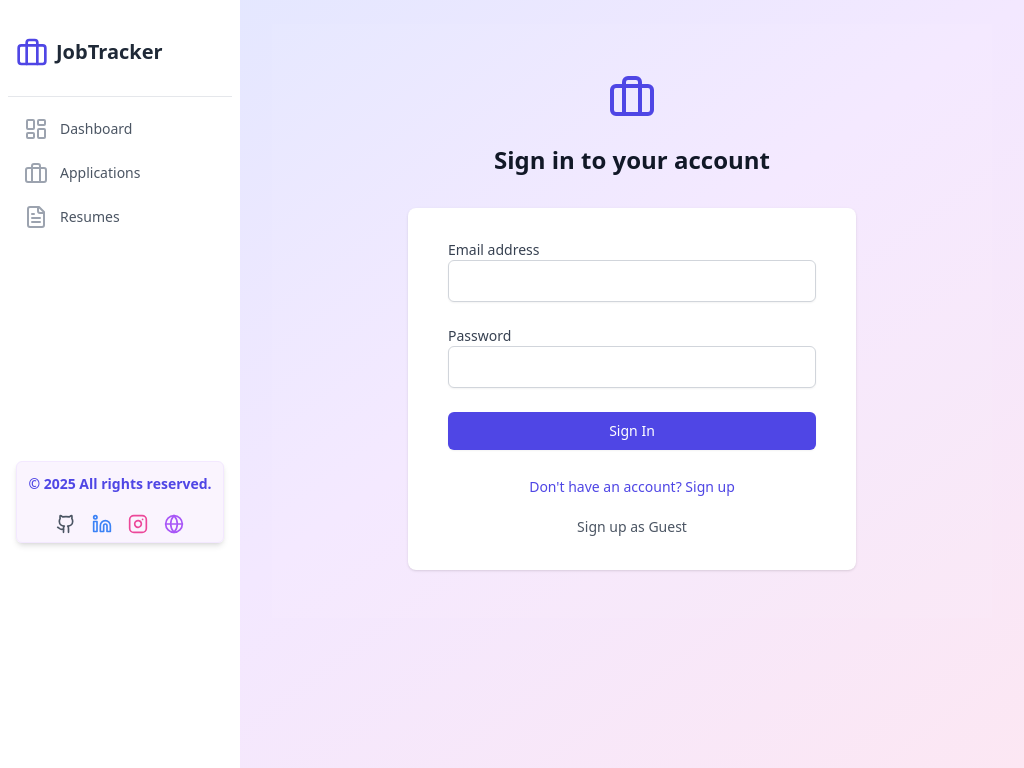
Scenario: Authentication Flow › should toggle between sign in and sign up
Click the button "Don't have an account? Sign up".
click(632, 487)  # box left=448, top=477, right=816, bottom=497
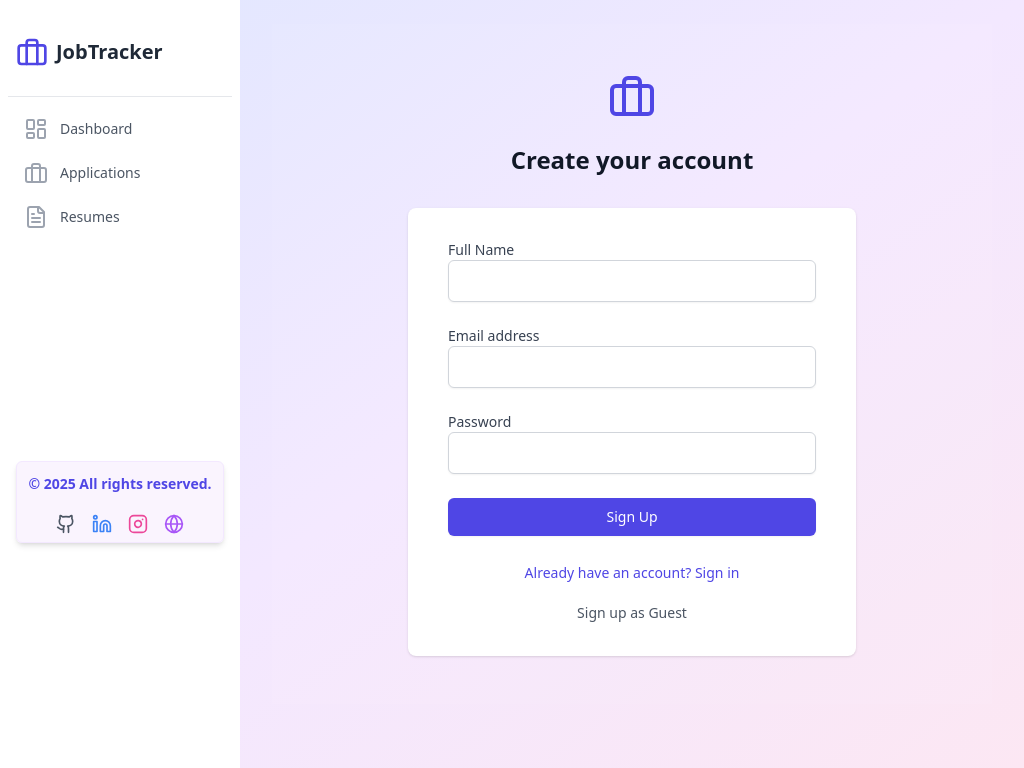
Check: the heading "Create your account" is shown, box left=511, top=143, right=753, bottom=176
Click the button "Already have an account? Sign in".
click(632, 573)  # box left=448, top=563, right=816, bottom=583
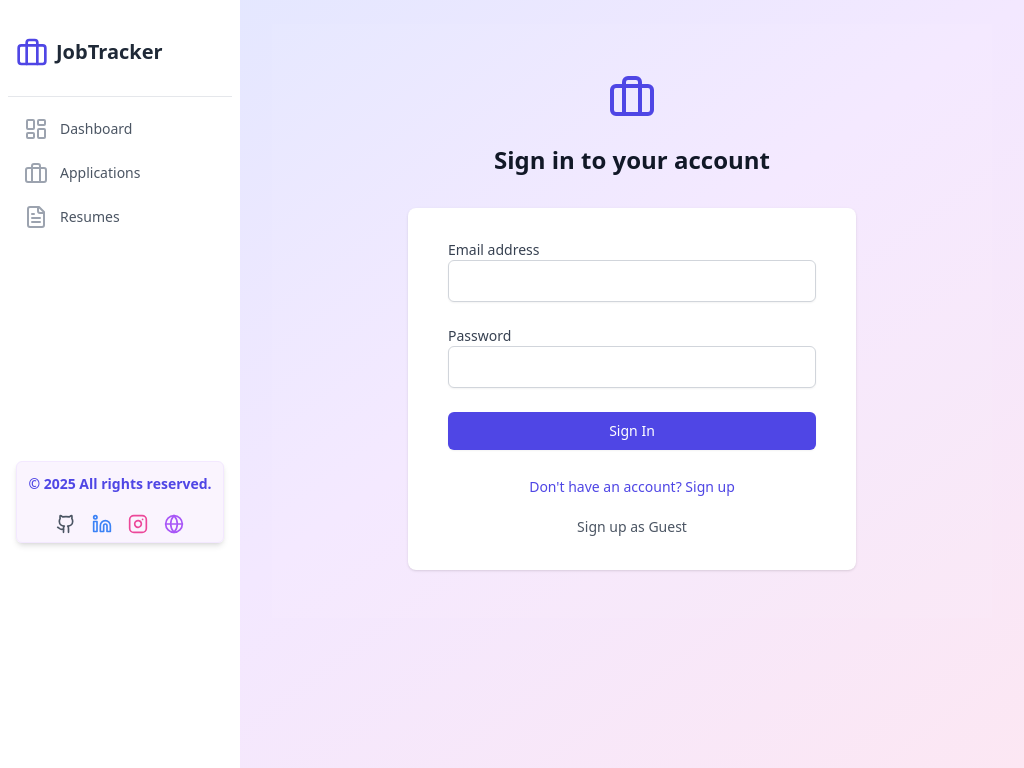
Check: the heading "Sign in to your account" is shown, box left=494, top=143, right=770, bottom=176
